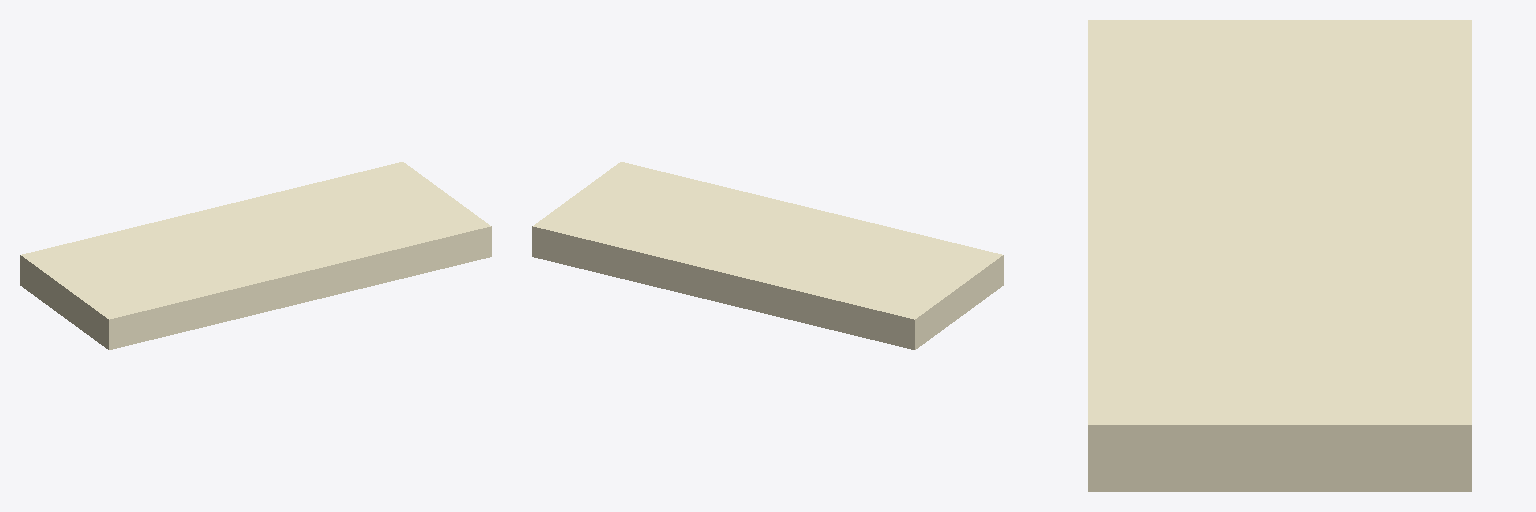
URDF robot description (roof_prior):
<robot name="roof_prior">
  <link name="base_link">
    <!-- Tabletop -->
    <collision>
      <origin xyz="0 0 0.714"/>
      <geometry>
        <box size="1.8515 0.741 0.082"/>
      </geometry>
    </collision>
    <visual>
      <origin xyz="0 0 0.714"/>
      <geometry>
        <box size="1.8515 0.741 0.142"/>
      </geometry>
      <material name="gray">
        <color rgba="1.00000  0.97255  0.86275 0.8"/>
      </material>
    </visual>
  </link>
</robot>

--- Render facts (derived) ---
Views: 3 orthographic renders of the robot side by side, from view 1: azimuth 30°, elevation 25°; view 2: azimuth 150°, elevation 25°; view 3: azimuth 270°, elevation 25°.
Model roof_prior with 1 links and 0 joints (none), rooted at base_link, posed every joint at zero.
Visible links, largest first — view 1: base_link; view 2: base_link; view 3: base_link.
Boxes of the visible links, x1,y1,x2,y2 form: base_link: [20, 162, 491, 349]; base_link: [532, 162, 1003, 349]; base_link: [1088, 20, 1471, 491].
Bounding box of the posed robot: 1.85 × 0.741 × 0.142 m (x, y, z).
Geometry: primitives only (box / cylinder / sphere), no mesh files.